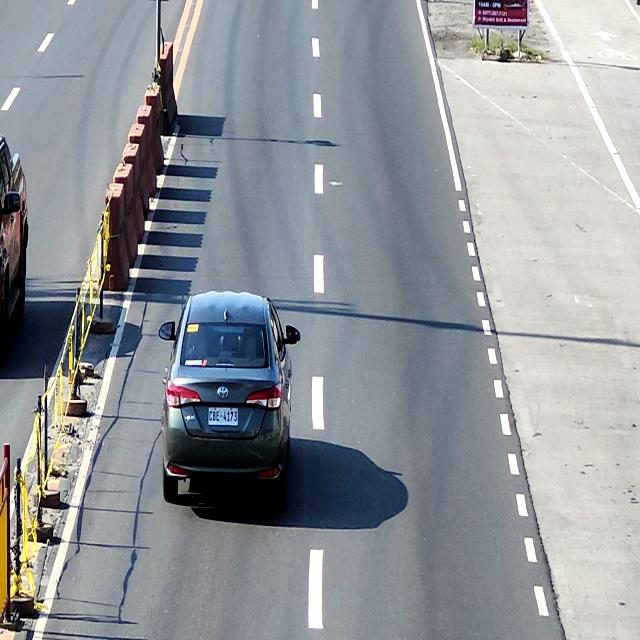Car: (159, 290, 301, 508), (0, 136, 29, 368)
License-Plate: (208, 408, 238, 426)
